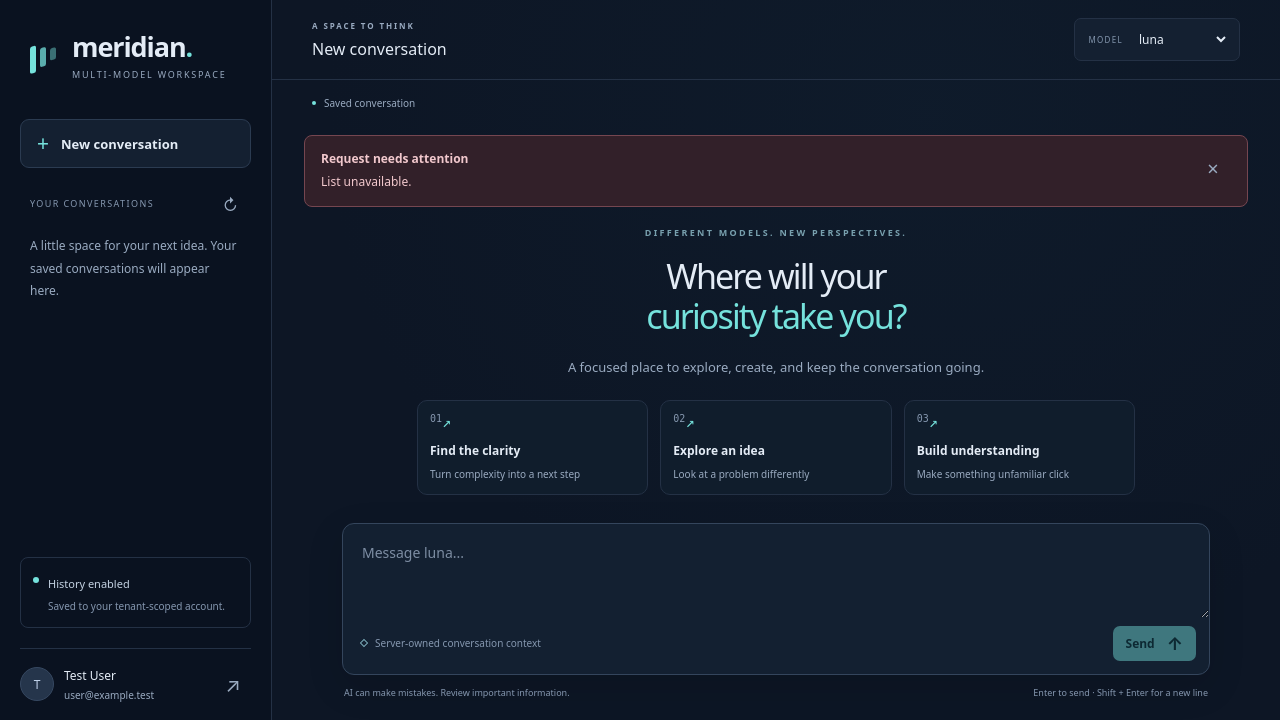
Test: workspace user states › preserves the saved feedback on a failed update and allows retrying a failed list read
Check: the message shows "List unavailable.", box [321,173,411,190]
Click the button named "Refresh conversations": point(230, 205) [220,197,241,213]
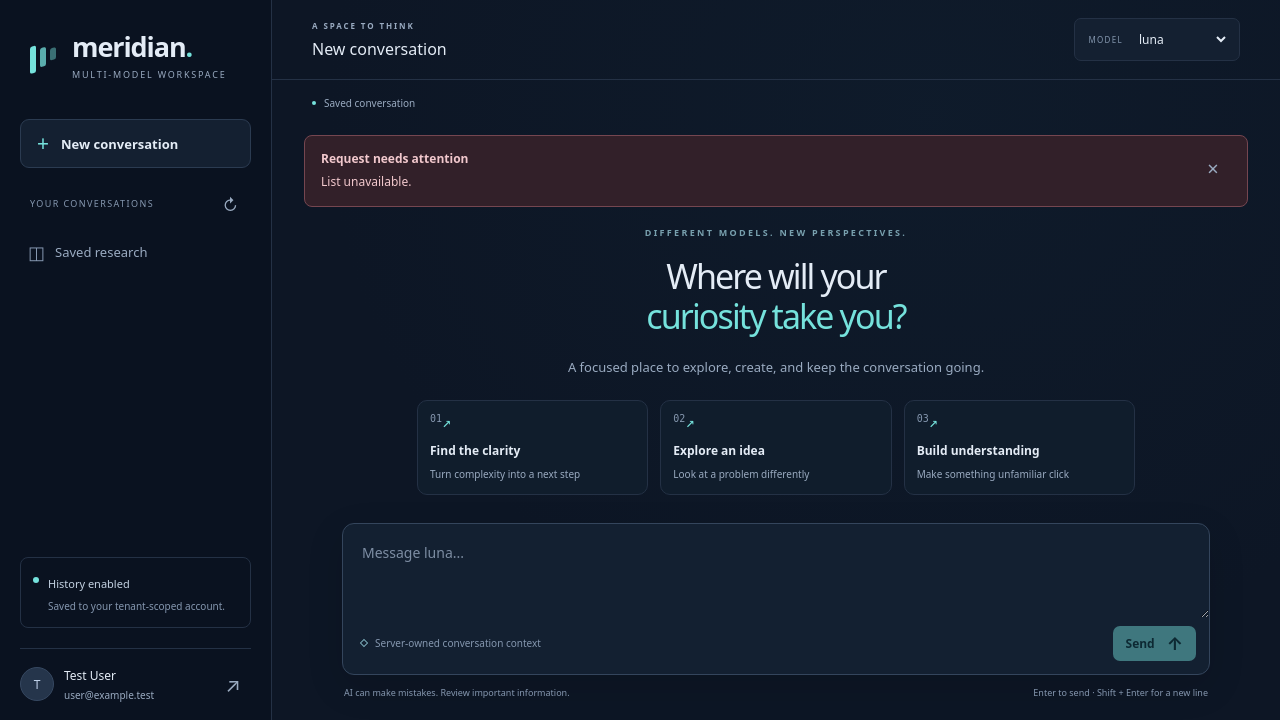
Click the button "◫ Saved research": point(136, 252) [16,228,255,276]
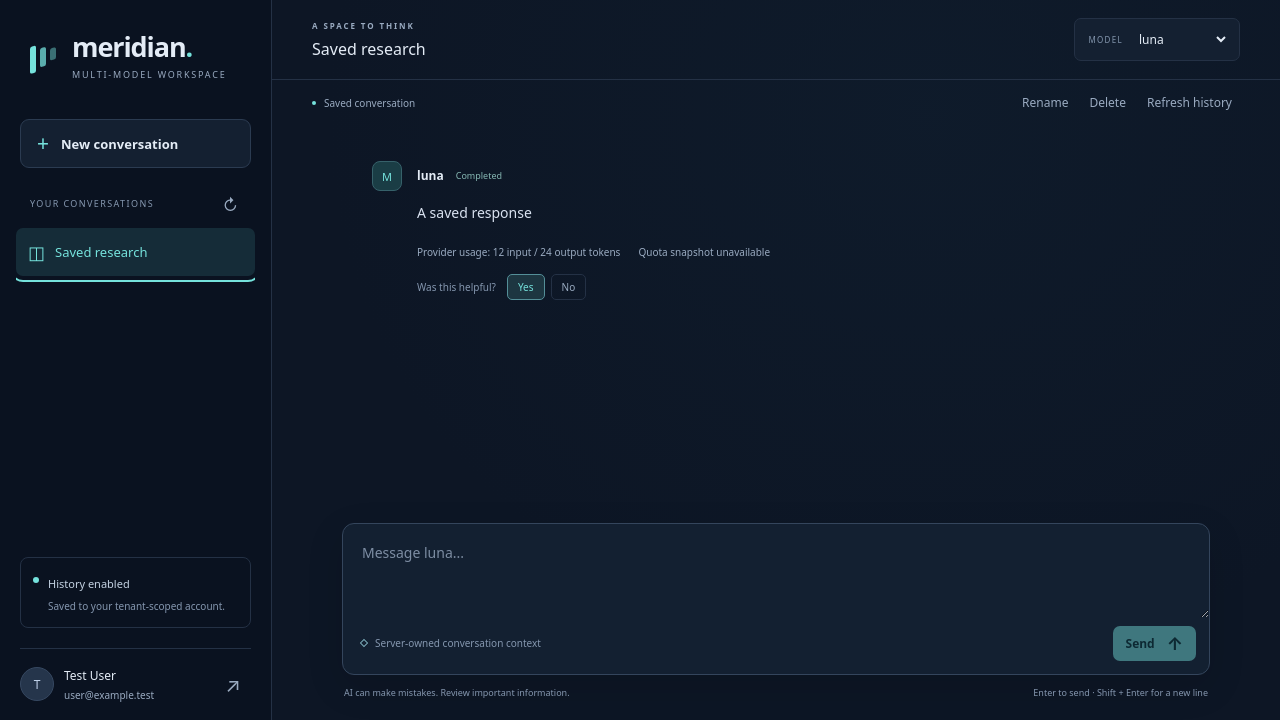
Check: the text "A saved response" is shown, box [417,203,532,222]
Click the button named "Unhelpful response": point(568, 287) [550,274,586,300]
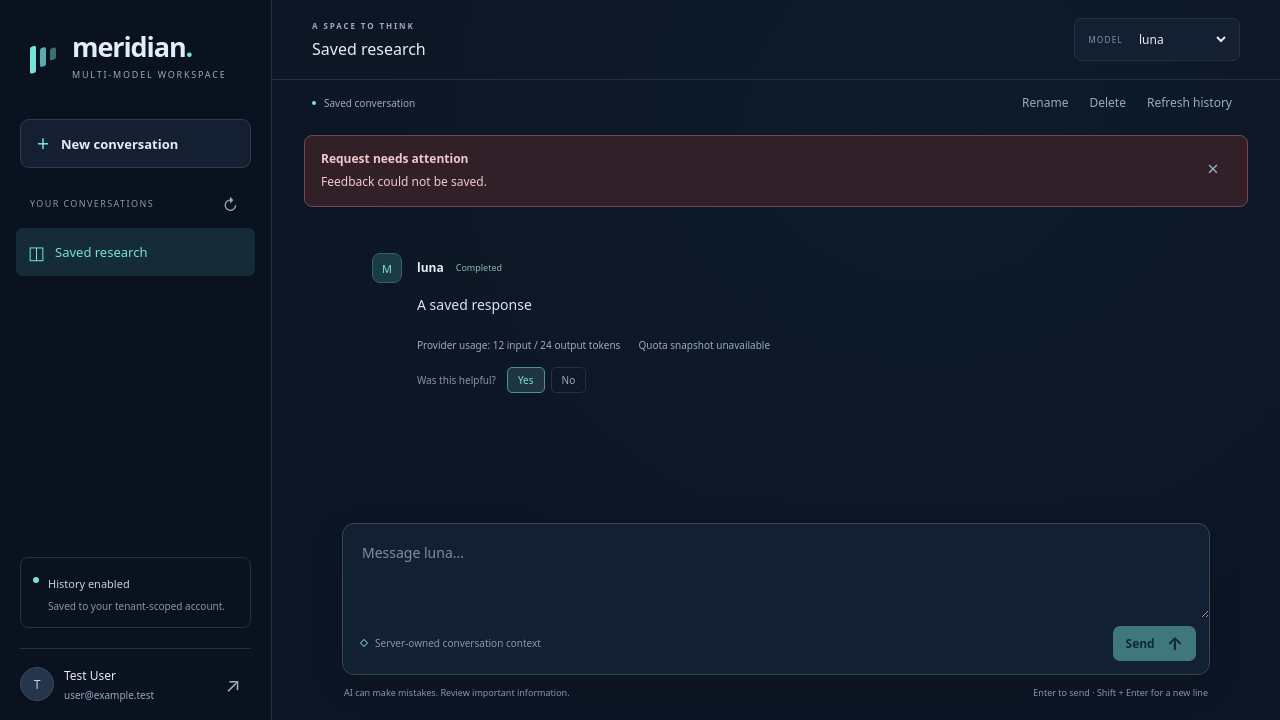
Check: the message shows "Feedback could not be saved.", box [321,173,487,190]
